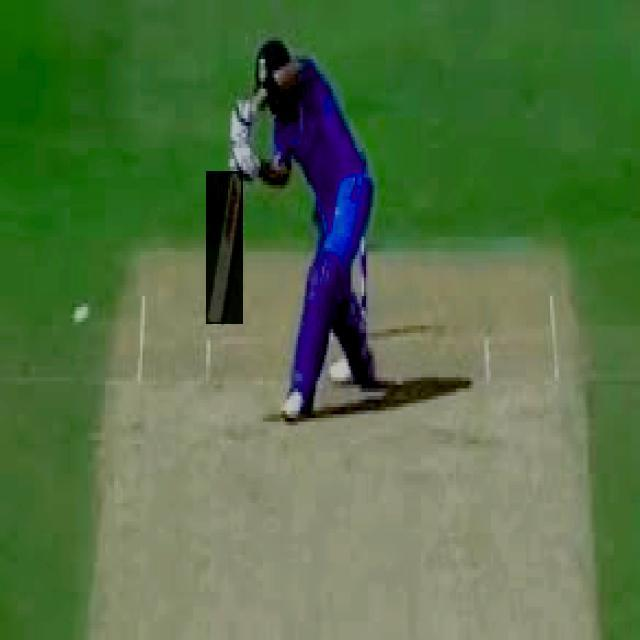bat: (206, 174, 245, 323)
toe: (188, 299, 240, 330)
